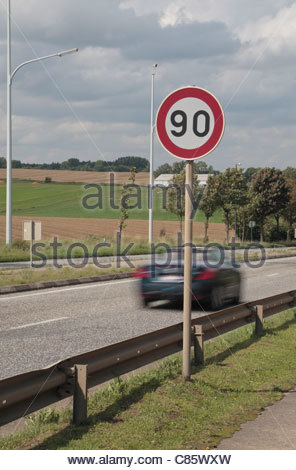Speed_limit_90km: (155, 86, 225, 159)
